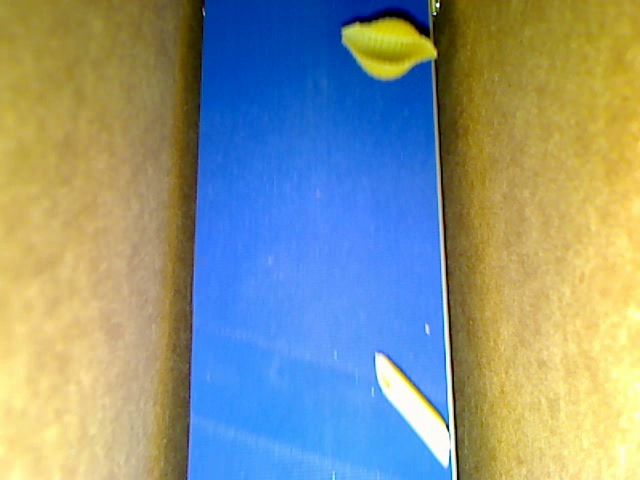penne: (374, 350, 451, 467)
shell: (341, 18, 437, 80)
